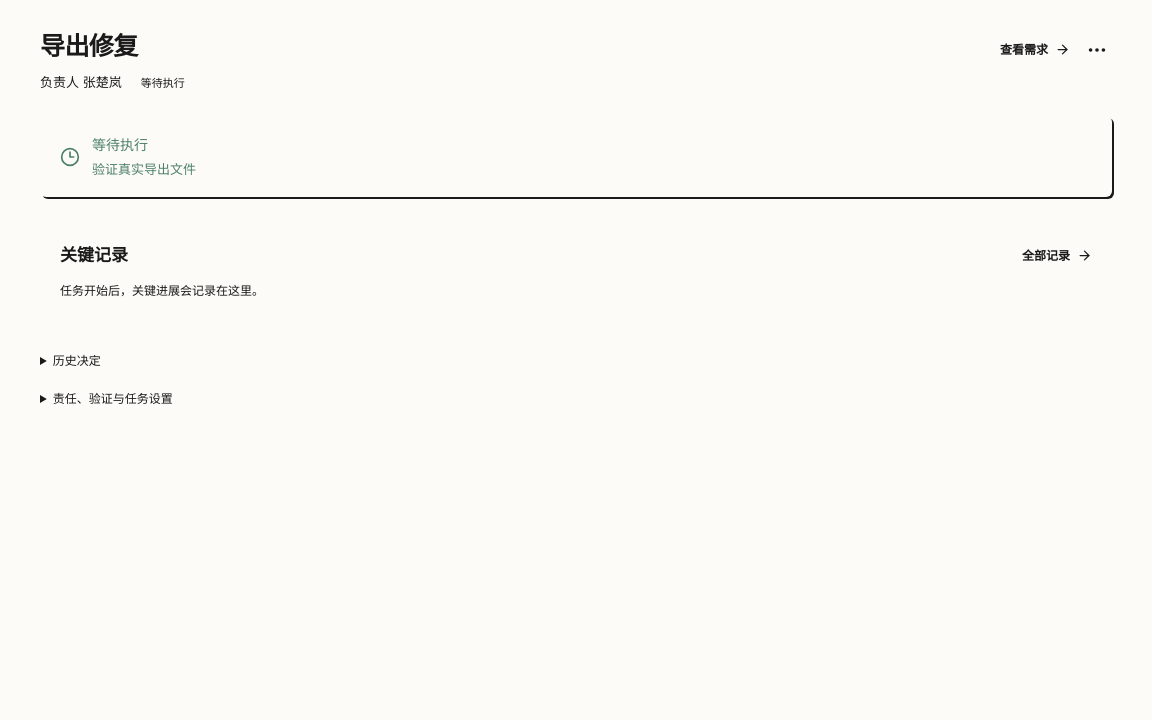
自主工作体验 › 已失效的方案没有可批准按钮
Click the heading "历史决定" at [77, 361], box [53, 353, 101, 368]
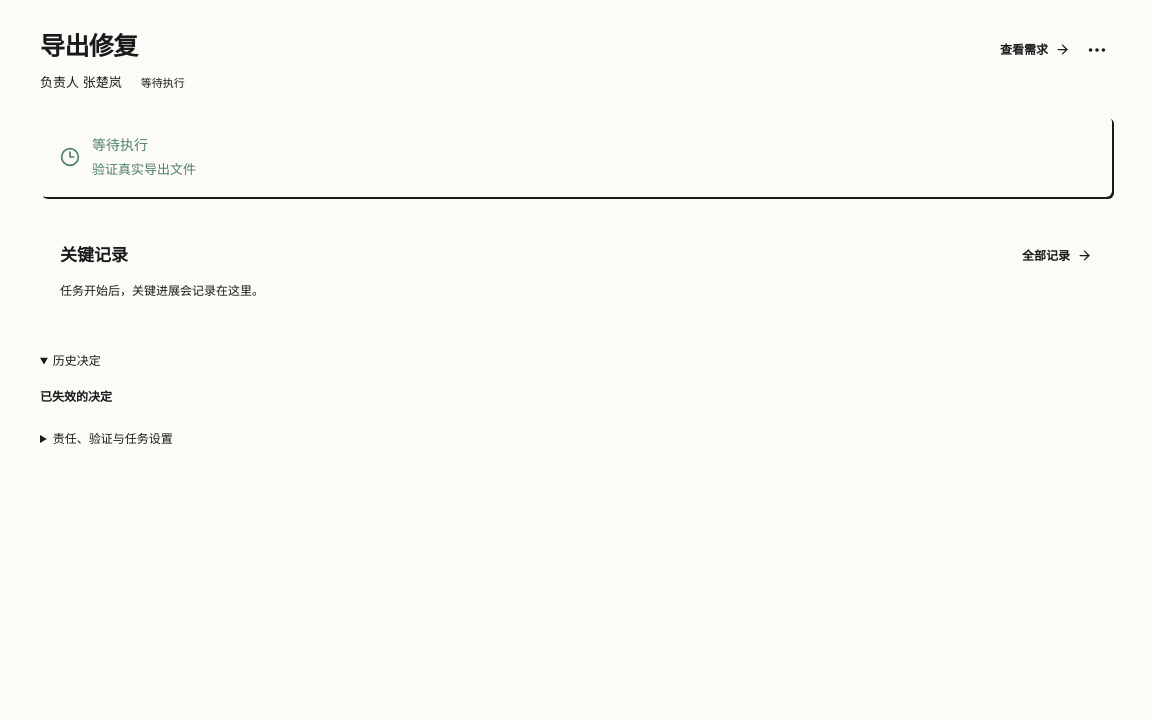
Click the button "已失效的决定" at [76, 397], box [40, 383, 112, 411]
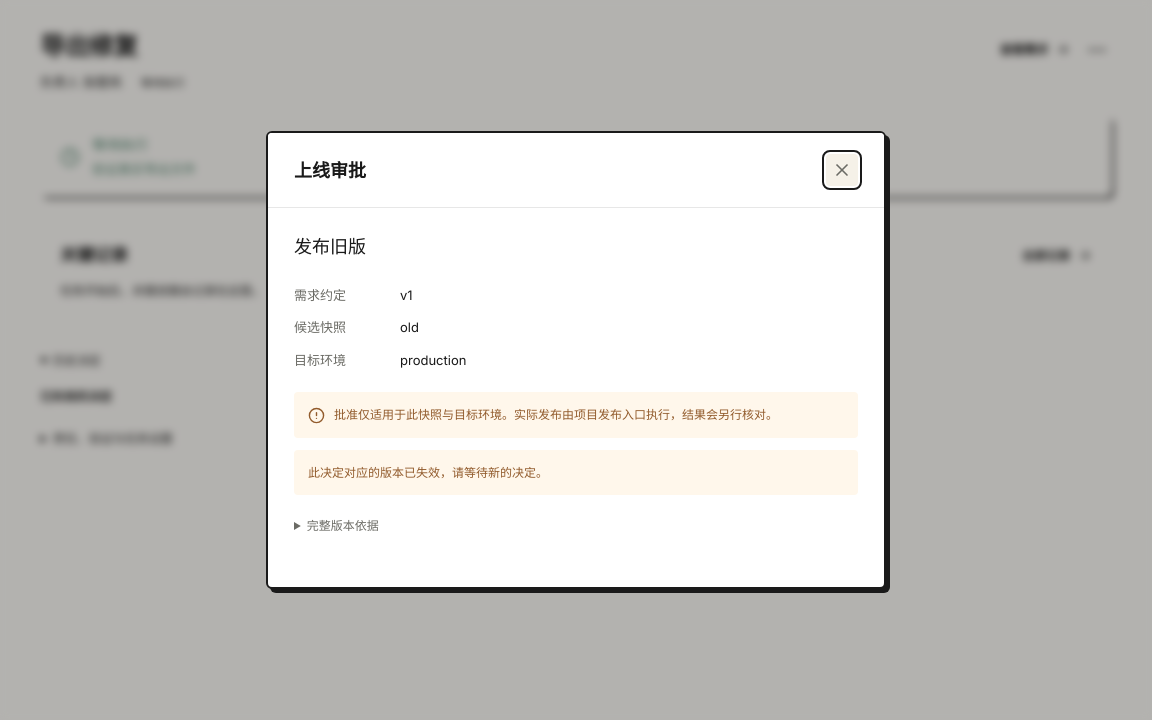
Check: the text "此决定对应的版本已失效，请等待新的决定。" is shown, box [294, 450, 858, 495]
